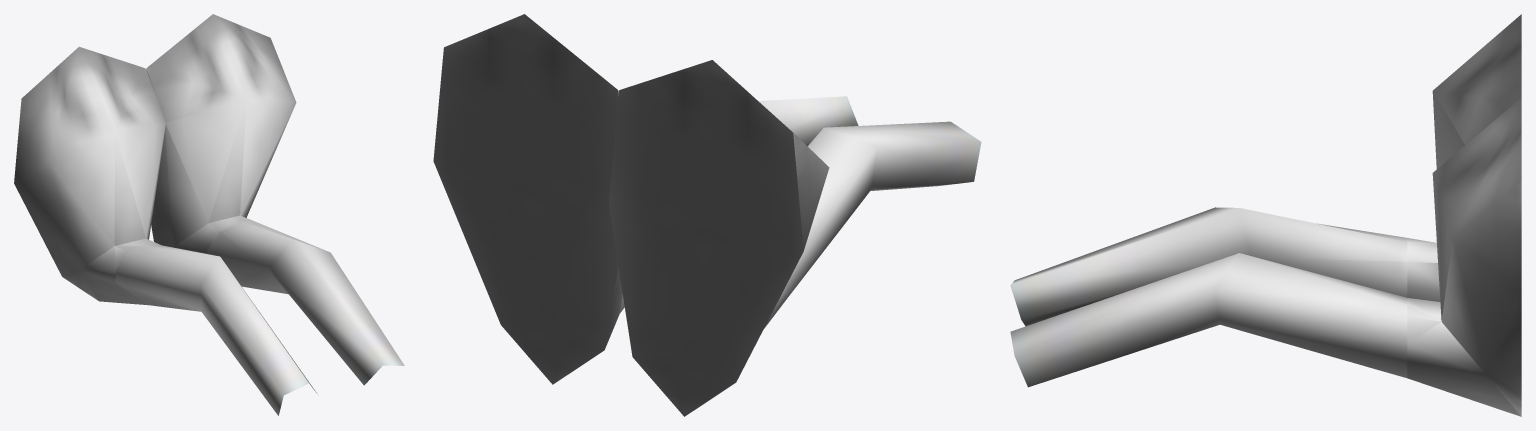
File: legs_m_500.glb
3 renders of one model, left to right at view 1: azimuth 30°, elevation 25°; view 2: azimuth 150°, elevation 25°; view 3: azimuth 270°, elevation 25°, orthographic. The views are drawn at different scales.
Parts seen in each view (by area): view 1: feet, legs; view 2: feet, legs; view 3: legs, feet.
Part boxes in pixels (box(x1,y1,x2,y2)): feet: box(14, 14, 296, 305); legs: box(115, 221, 404, 415); feet: box(433, 14, 829, 416); legs: box(758, 96, 981, 298); legs: box(1010, 207, 1407, 387); feet: box(1407, 14, 1521, 416).
Size of the model in its own units: 1.29 by 1.21 by 1.69.
2 materials, 2 textured.
